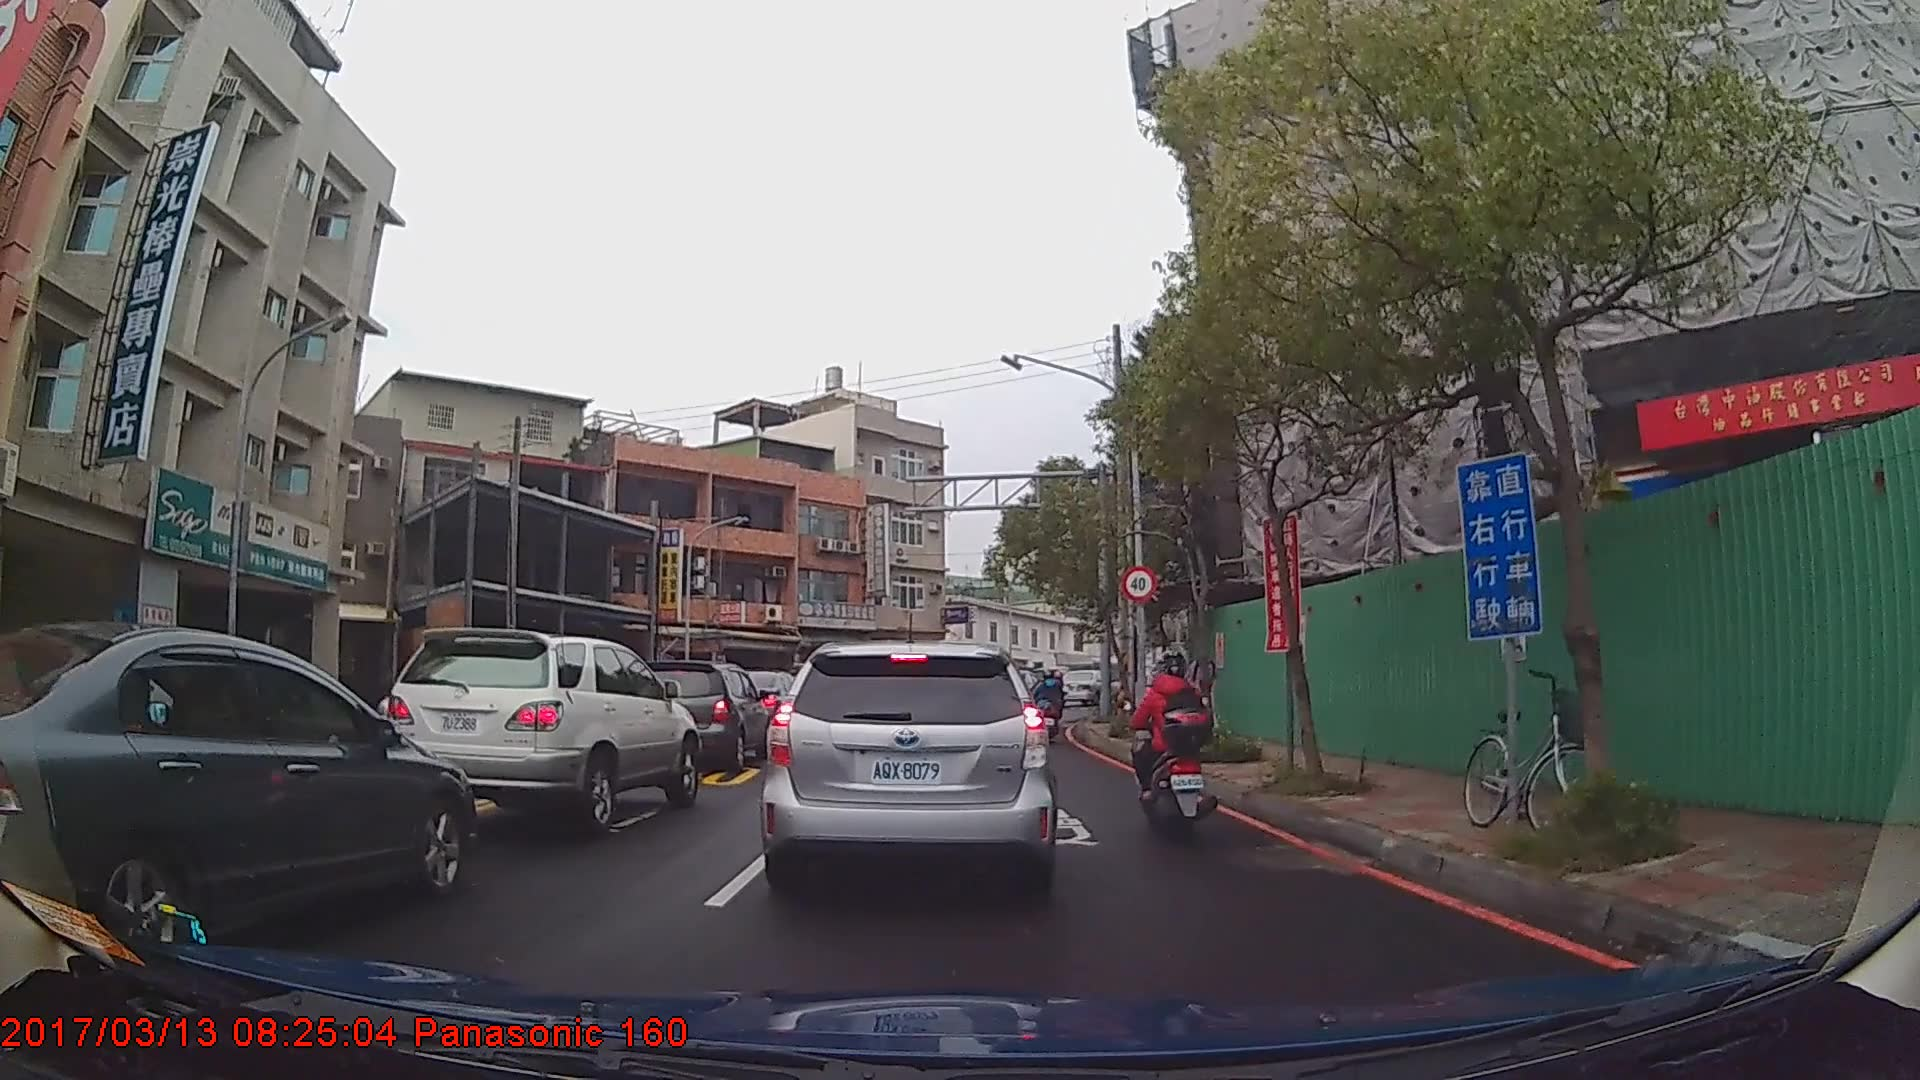pedestrian: (1185, 643, 1221, 738)
rider: (1125, 648, 1215, 841), (1037, 670, 1068, 749)
vehicle: (0, 619, 477, 953), (759, 641, 1060, 896), (379, 626, 701, 831), (632, 660, 771, 772)
